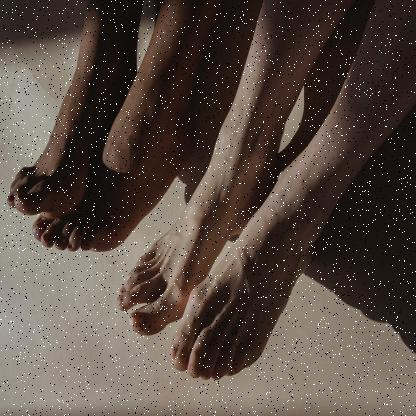leg: (168, 1, 416, 387), (109, 0, 352, 342), (25, 1, 223, 262), (3, 1, 148, 228)
